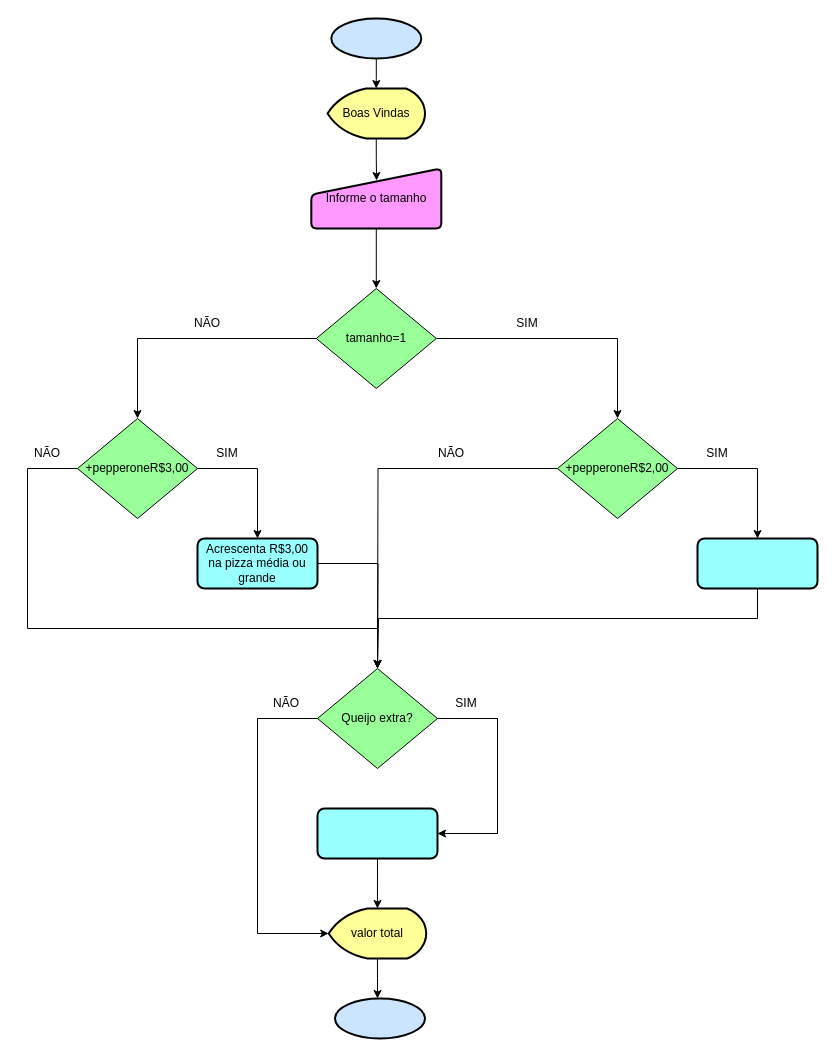
The diagram is 835 pixels wide and 1056 high, and some of its shapes have lost their labels. The shapes that lost their labels are listed below. From the top down, each one's centre as x and y in pixels, then its label:
At (376,38): "INICÍO".
At (757,563): "Acrescenta R$2,00 na pizza pequena".
At (377,833): "Acrescenta R$1,00 no valor total".
At (380,1018): "FIM".
